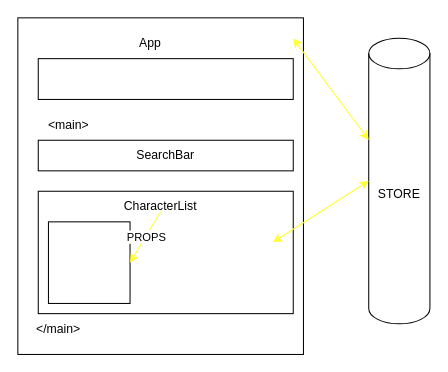
Image size: 448x372. Some labels were removed from this diagram. Here are the shapes that lost their labels. From the top down, the centre of each, then its label:
At (165,78): "HeaderComponent".
At (88,262): "CharacterCard".
